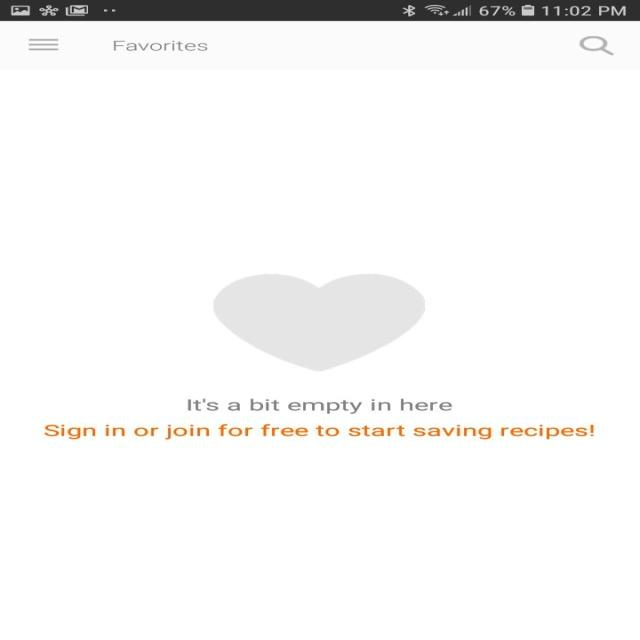Icon: (212, 273, 425, 372), (578, 36, 614, 56), (27, 38, 59, 51)
Text: (44, 424, 594, 439), (186, 398, 452, 414), (113, 40, 208, 51)
